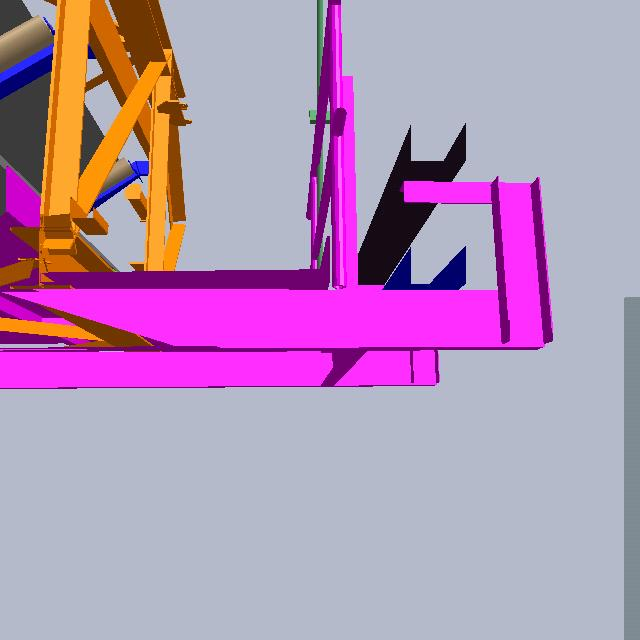Poste: (311, 2, 338, 346)
